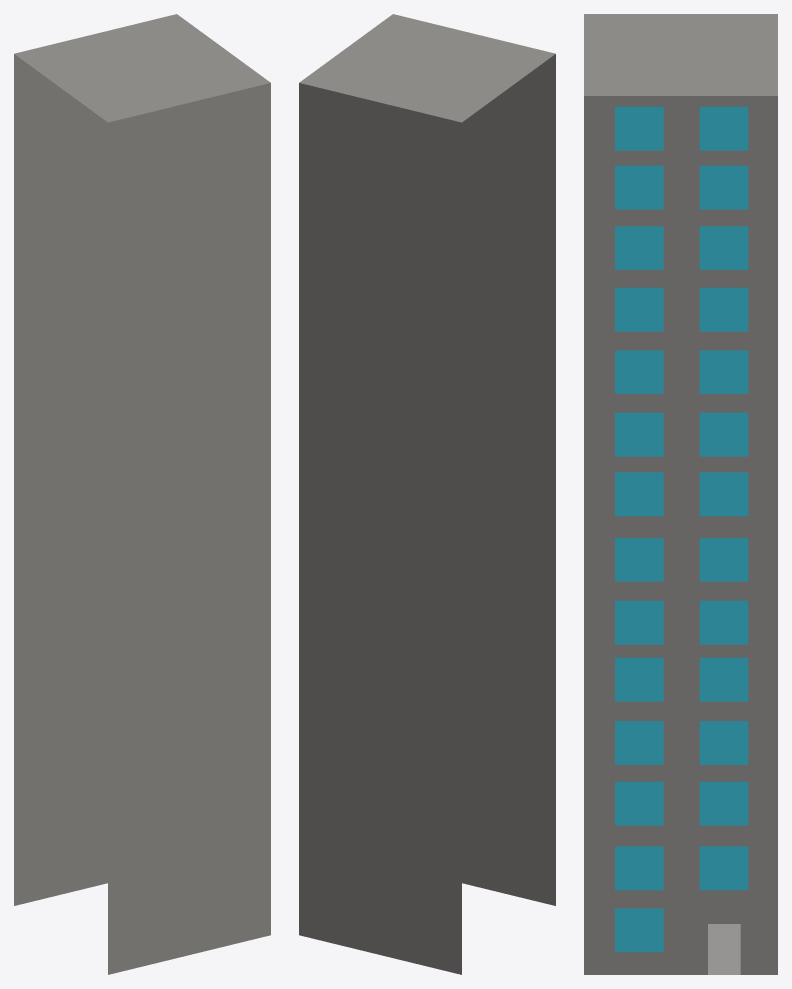
Rendered from TallBuilding.glb.
3 renders of one model, left to right at view 1: azimuth 30°, elevation 25°; view 2: azimuth 150°, elevation 25°; view 3: azimuth 270°, elevation 25°, orthographic. The views are drawn at different scales.
Parts seen in each view (by area): view 1: Base; view 2: Base; view 3: Base, Plane.026, Plane.025, Plane.023, Plane.022, Plane.020, Plane.019, Plane.017, Plane.015, Plane.014, Window1, Plane.001 (+17 smaller).
Boxes of the visible parts, <box> form: Base: <box>14,14,270,974</box>; Base: <box>299,14,555,974</box>; Base: <box>584,14,777,974</box>; Plane.026: <box>699,846,748,890</box>; Plane.025: <box>699,781,748,825</box>; Plane.023: <box>699,657,748,701</box>; Plane.022: <box>699,600,748,644</box>; Plane.020: <box>699,472,748,516</box>; Plane.019: <box>699,412,748,456</box>; Plane.017: <box>699,287,748,331</box>; Plane.015: <box>699,165,748,209</box>; Plane.014: <box>699,106,748,150</box>; Window1: <box>615,908,663,952</box>; Plane.001: <box>615,846,663,890</box>.
Size of the model in its own units: 1 by 5 by 1.
